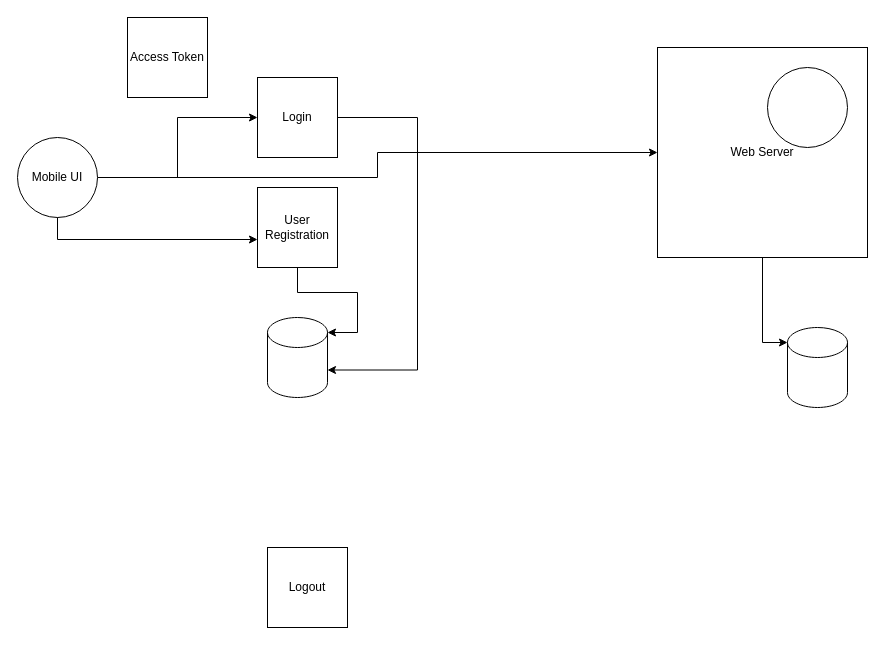
This 885x645 diagram has some shape labels left out. Each missing label, with the centre of its shape:
NoSQL Database (PRODUCTS): (817,367)
Oracle DB (USERS): (297,357)
Web Framework: (807,107)
